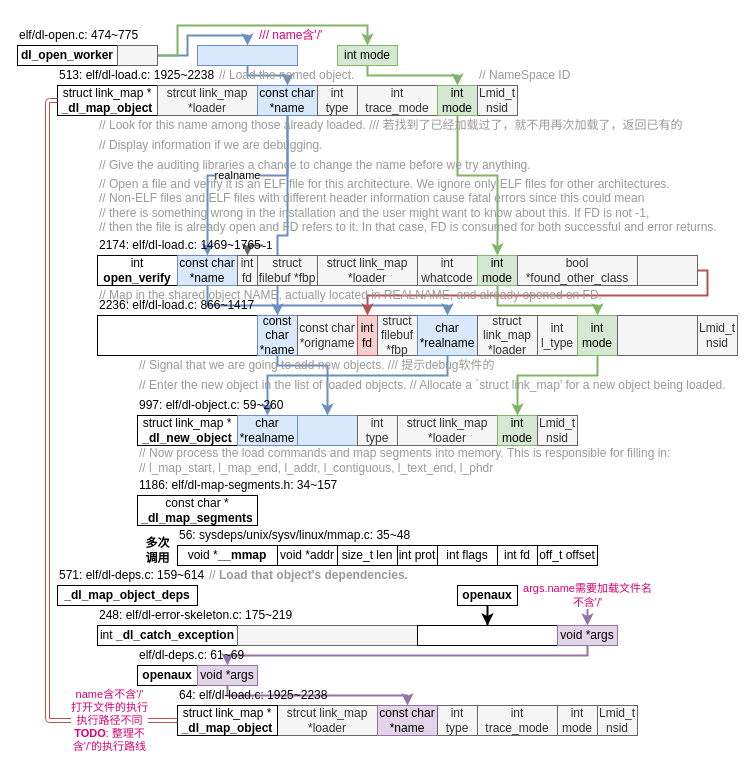
Image size: 755x770. Some labels were removed from this diagram. The shapes that lost their labels are listed below. From the top down, each one's centre as x and y in pixels, then its label:
At point 137,55: "void *a".
At point 247,55: "const char *file".
At point 667,270: "bool free_name".
At point 177,335: "struct link_map * _dl_map_object_from_fd".
At point 657,335: "void **stack_endp".
At point 327,430: "const char *libname".
At point 327,635: "struct dl_exception *exception".
At point 487,635: "void (*operate) (void *)".
